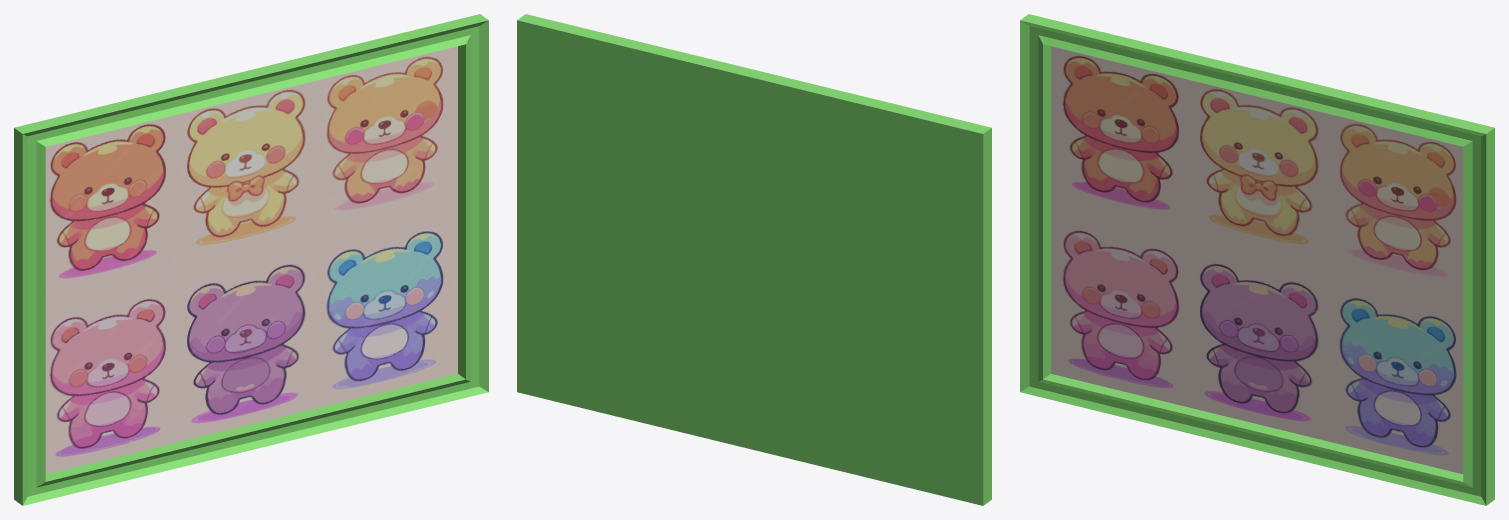
Rendered from Photo Frame.fbx.
3 views of the same model, side by side, from view 1: azimuth 30°, elevation 25°; view 2: azimuth 150°, elevation 25°; view 3: azimuth 330°, elevation 25° (orthographic).
Visible parts, largest first — view 1: Cube; view 2: Cube; view 3: Cube.
Boxes of the visible parts, x1=… form: Cube: x1=14, y1=14, x2=488, y2=505; Cube: x1=517, y1=14, x2=991, y2=505; Cube: x1=1020, y1=14, x2=1494, y2=505.
Size of the model in its own units: 2.62 by 2 by 0.0844.
2 materials, 1 textured.
